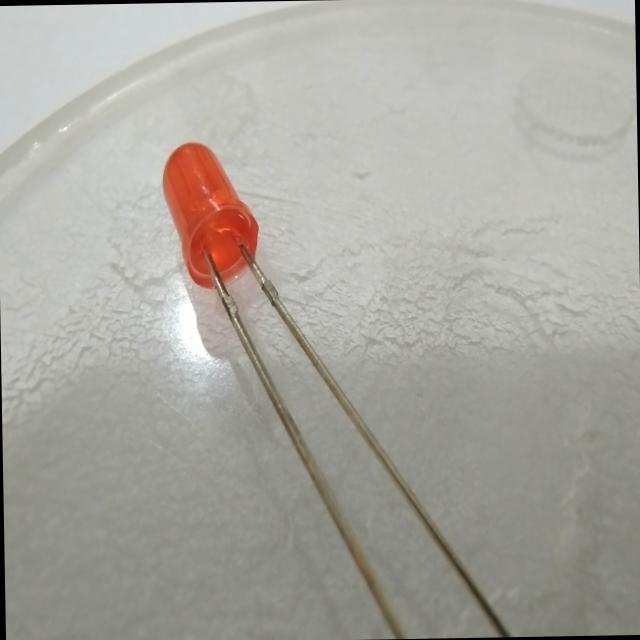red_led: (148, 130, 280, 300)
